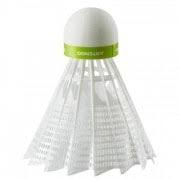shuttle: (42, 10, 149, 173)
